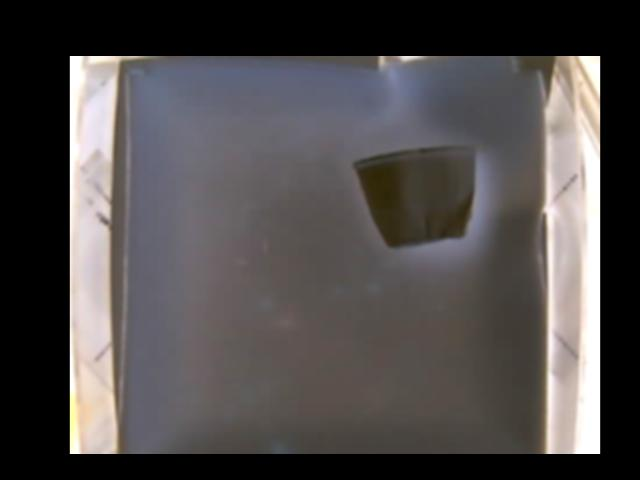Cup: (355, 144, 475, 246)
